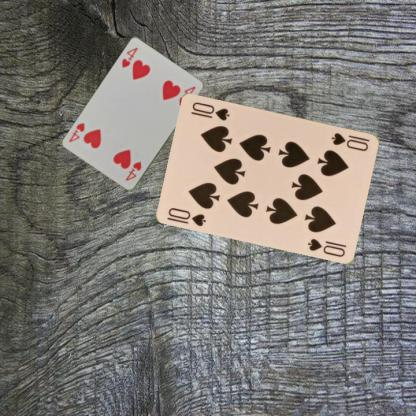10s: (166, 204, 208, 228), (329, 130, 371, 153)
4h: (119, 45, 139, 69), (122, 159, 142, 182)
